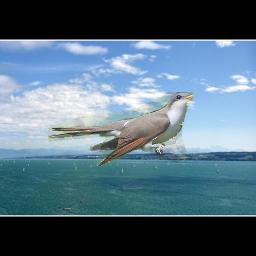Cuckoo: (48, 92, 193, 166)
